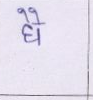ai_matra: (16, 7, 46, 22)
